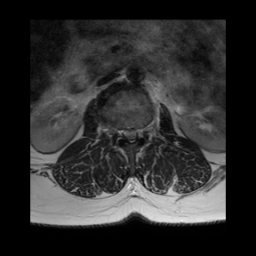CCS_stenosis: (127, 124, 133, 146)
LFS_normal: (138, 124, 145, 145)
LLS_normal: (132, 124, 138, 144)
RFS_normal: (115, 123, 122, 146)
RLS_normal: (121, 124, 127, 143)
